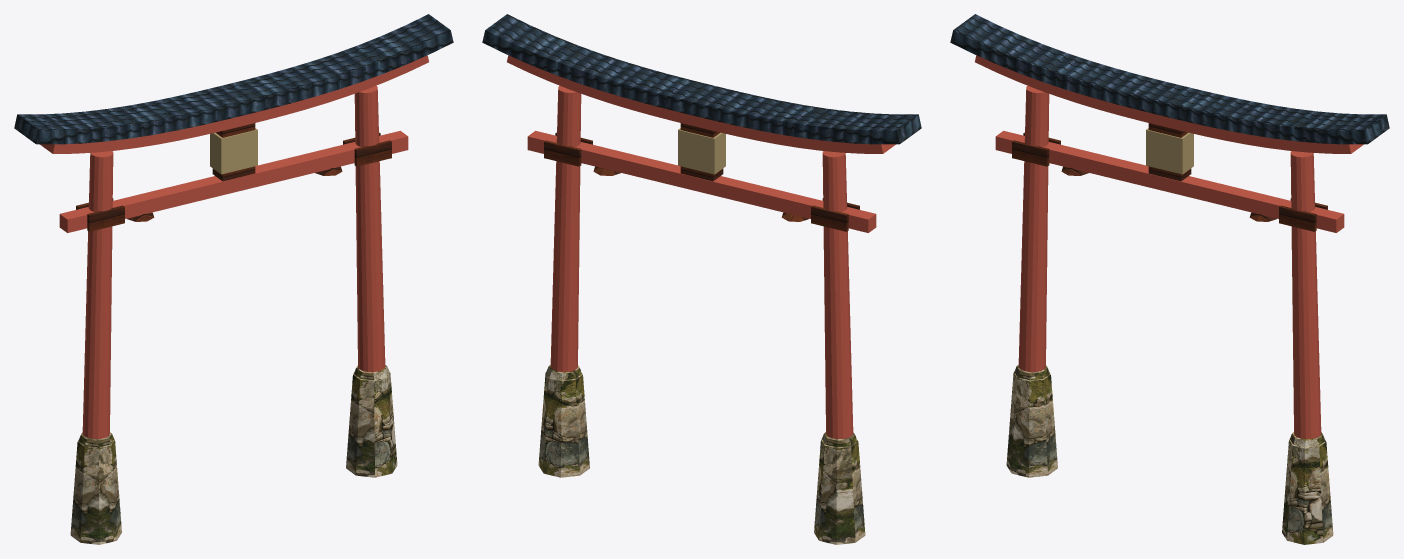
Rendered from edo_torii_gate.glb.
3 renders of one model, left to right at view 1: azimuth 30°, elevation 25°; view 2: azimuth 150°, elevation 25°; view 3: azimuth 330°, elevation 25°, orthographic.
Parts seen in each view (by area): view 1: torii_vermilion, torii_kawara, torii_stone, torii_timber, torii_bronze; view 2: torii_vermilion, torii_kawara, torii_stone, torii_timber, torii_bronze; view 3: torii_vermilion, torii_kawara, torii_stone, torii_timber, torii_bronze.
Boxes of the visible parts, x1,y1,x2,y2 form: torii_vermilion: (40, 55, 428, 438); torii_kawara: (14, 14, 453, 144); torii_stone: (70, 365, 397, 544); torii_timber: (76, 123, 391, 231); torii_bronze: (210, 128, 257, 174); torii_vermilion: (507, 55, 895, 439); torii_kawara: (482, 14, 921, 144); torii_stone: (538, 365, 865, 544); torii_timber: (544, 123, 859, 231); torii_bronze: (678, 128, 725, 174); torii_vermilion: (975, 55, 1363, 439); torii_kawara: (950, 14, 1389, 144); torii_stone: (1006, 365, 1333, 544); torii_timber: (1012, 123, 1327, 231); torii_bronze: (1146, 128, 1193, 174).
Bounding box in the file's own units: 6.12 × 6 × 0.6104.
Materials: 5 (3 with a texture image).
